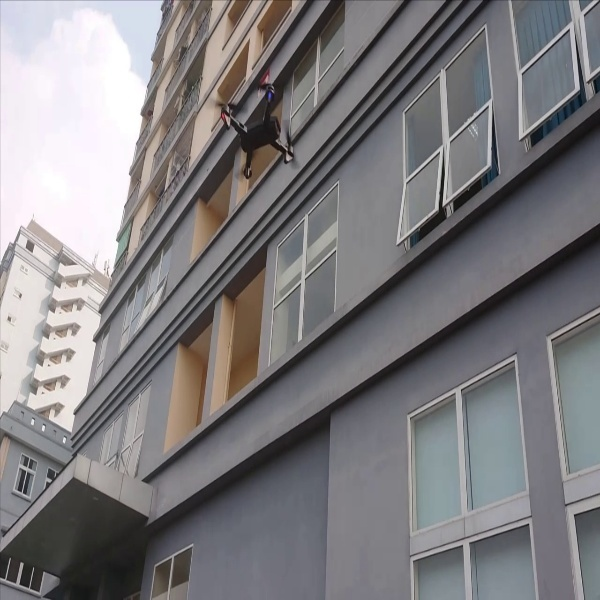drone: (207, 72, 306, 181)
